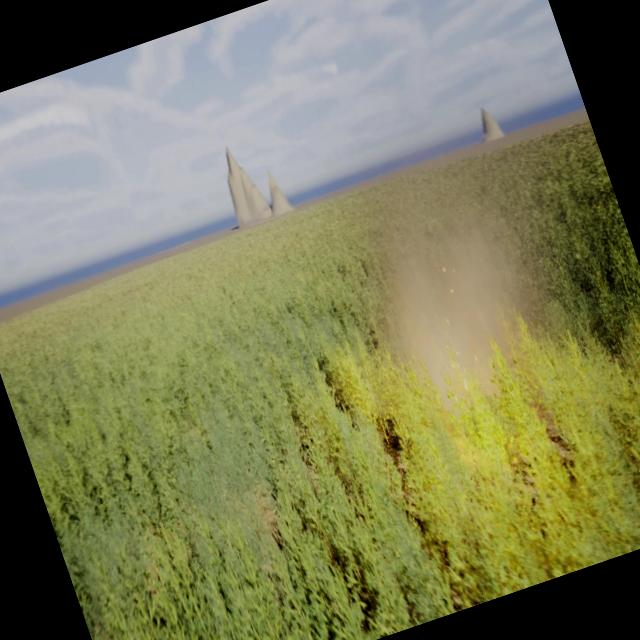smoke: (348, 178, 564, 426)
